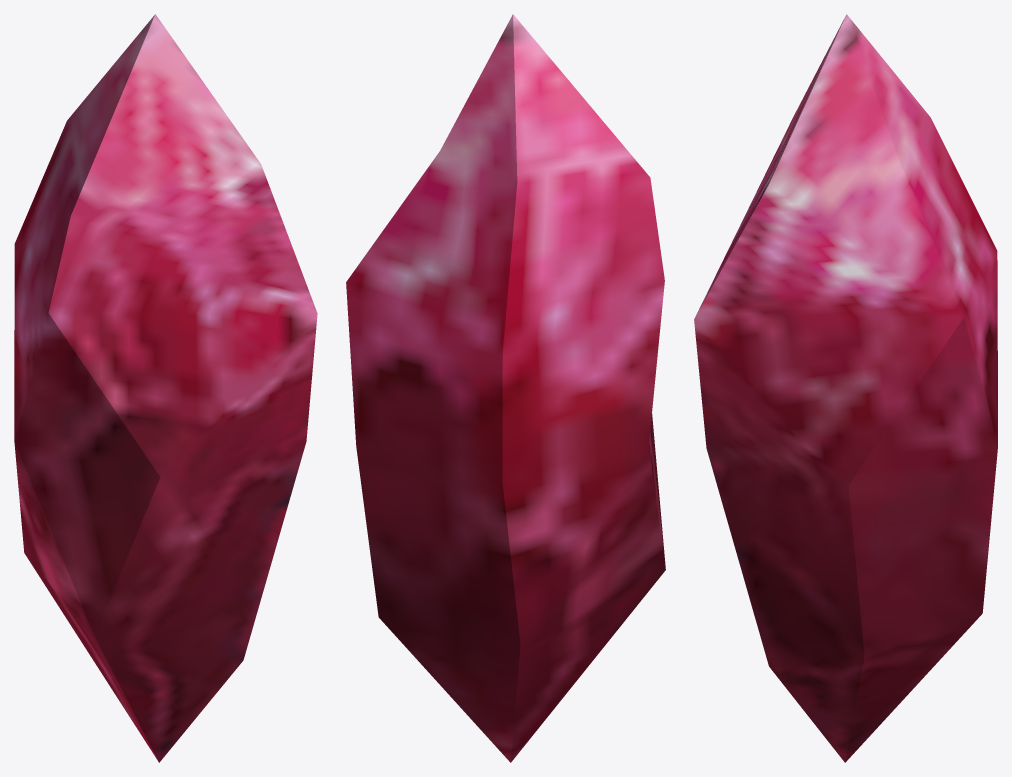
File: crystalbare.fbx
3 renders of one model, left to right at view 1: azimuth 30°, elevation 25°; view 2: azimuth 150°, elevation 25°; view 3: azimuth 270°, elevation 25°, orthographic.
Visible parts, largest first — view 1: palace_lightcolumn_02; view 2: palace_lightcolumn_02; view 3: palace_lightcolumn_02.
Part boxes in pixels (x1,y1,x2,y2): palace_lightcolumn_02: [14, 14, 317, 762]; palace_lightcolumn_02: [346, 14, 665, 762]; palace_lightcolumn_02: [694, 14, 997, 762].
Size of the model in its own units: 0.397 by 0.9876 by 0.3638.
